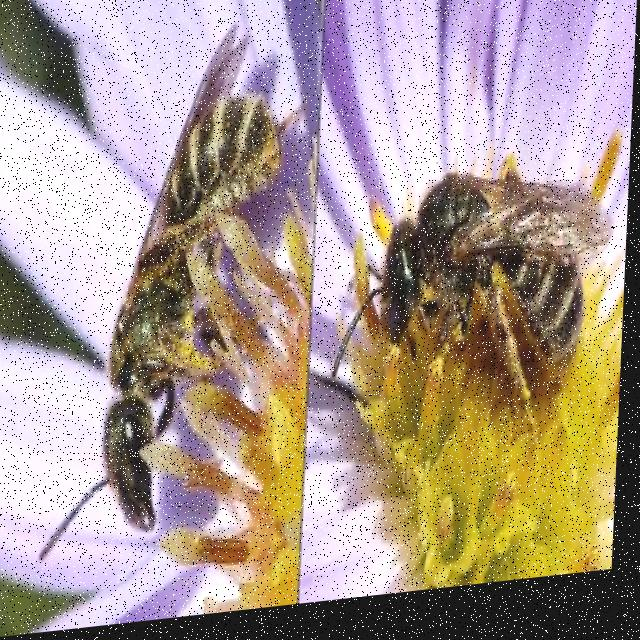Lasioglossum: (45, 15, 292, 591), (329, 143, 606, 469)
